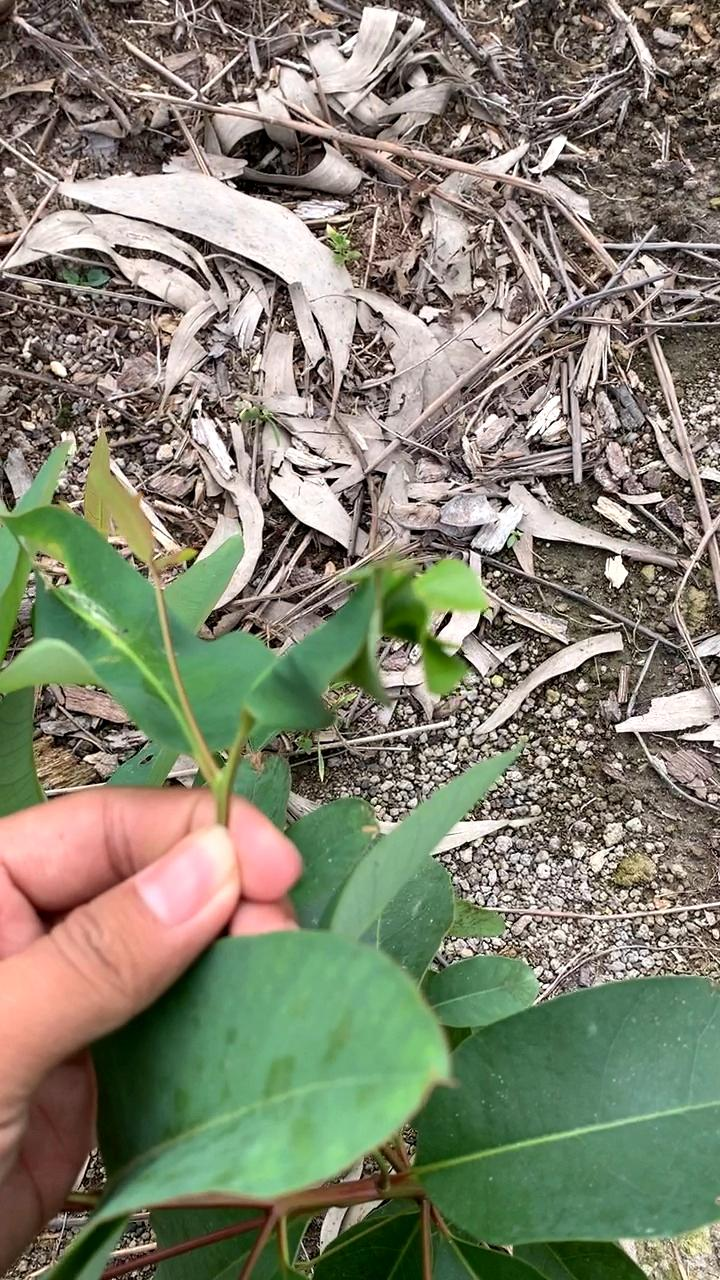Leaf Roller - Leaf: (233, 556, 493, 723)
